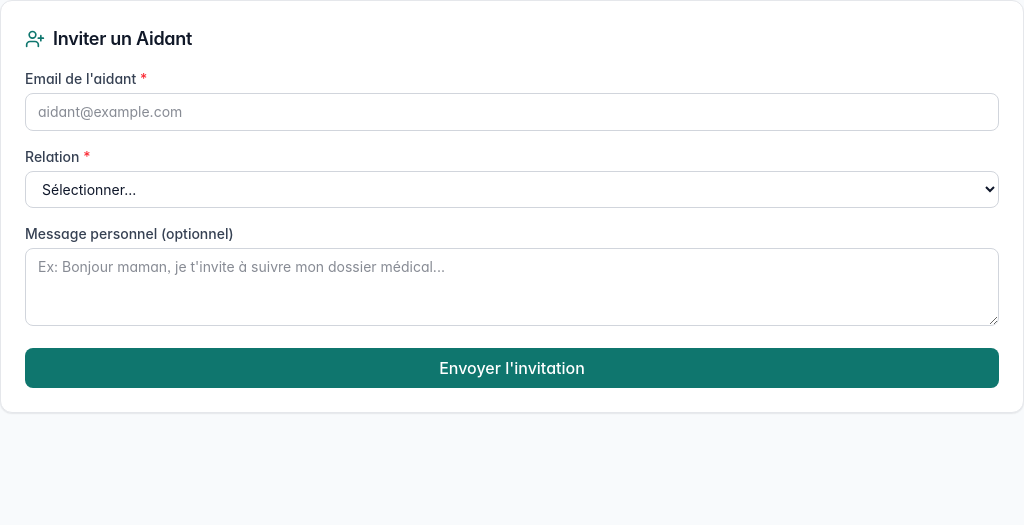
Test case: CaregiverInviteForm Component › should handle form submission successfully
The width and height of the screenshot is (1024, 525).
# Fill in the form
Type "caregiver@example.com" into the field with placeholder "aidant@example.com" at (512, 112), box 25,93 -> 999,131
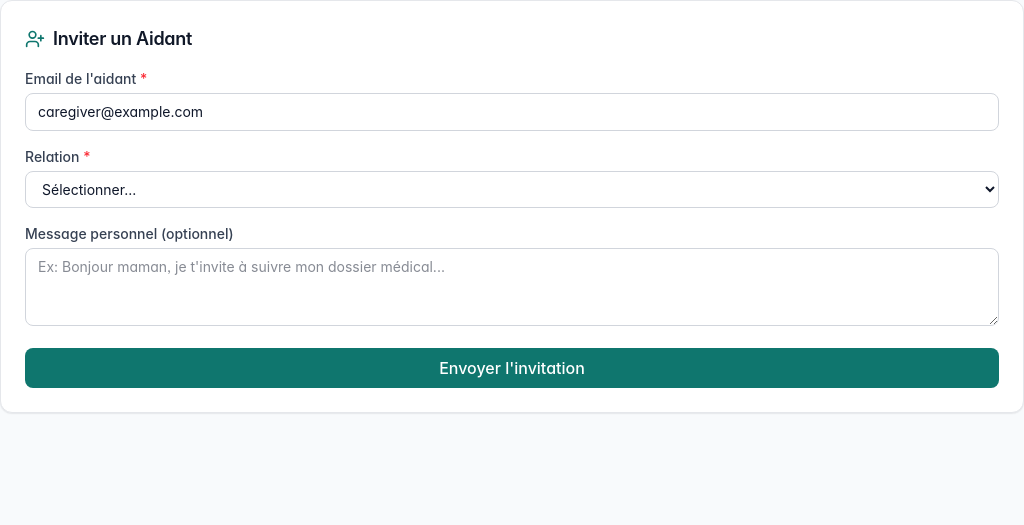
Select "Parent" in the dropdown at (512, 190), box 25,171 -> 999,208
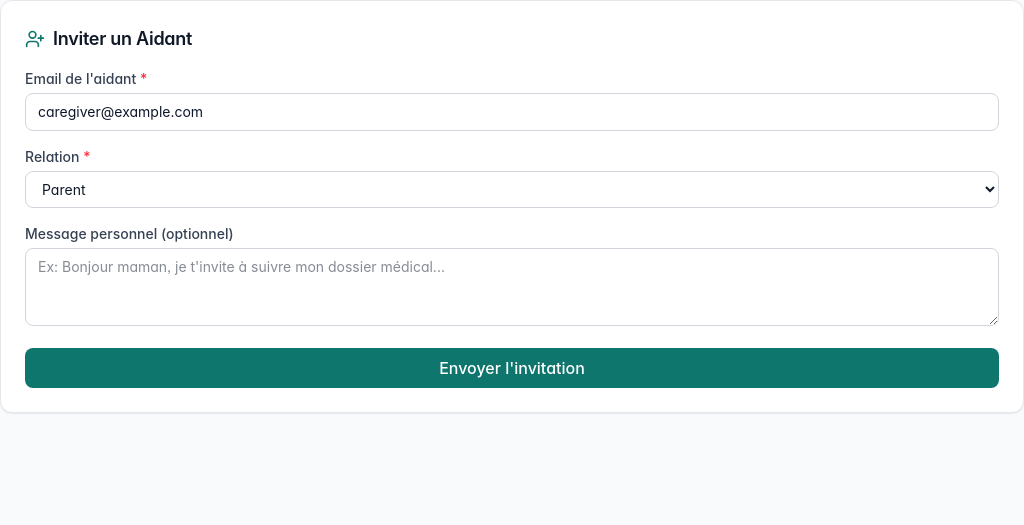
Replace the text in the text box with placeholder "Ex: Bonjour maman" with "Please help me" at (512, 287), box 25,248 -> 999,326
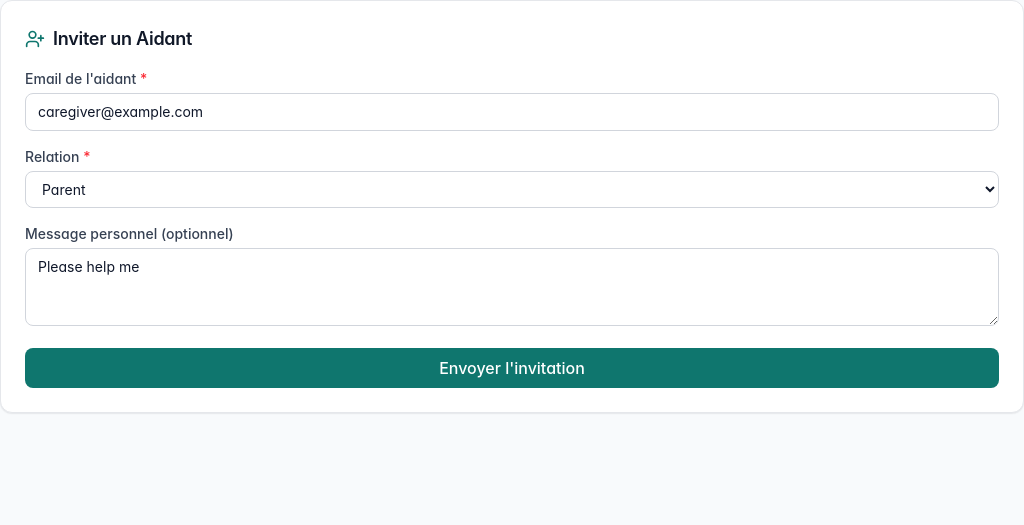
# Submit the form
Click the button "Envoyer l'invitation" at (512, 368), box 25,348 -> 999,388
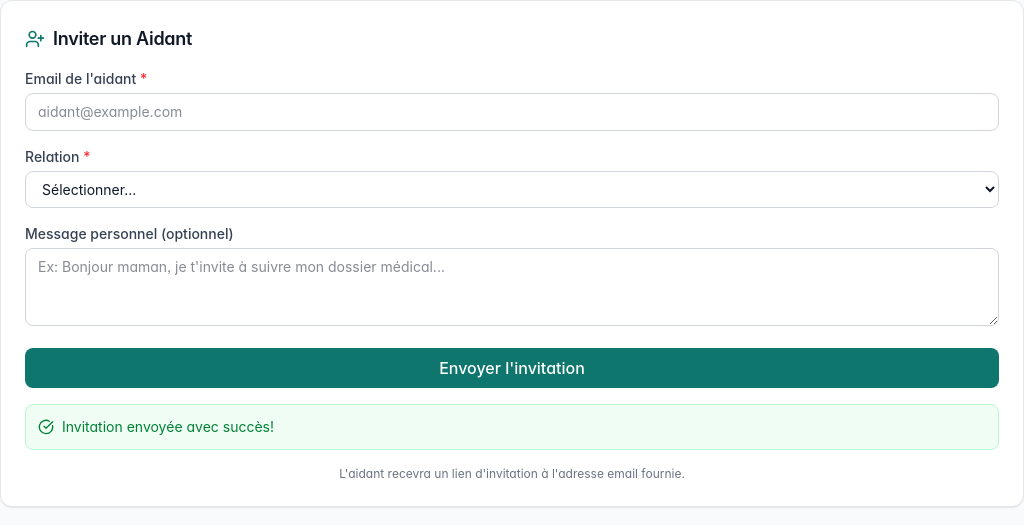
Now the text "Invitation envoyée avec succès!" is shown, box 62,417 -> 274,437
